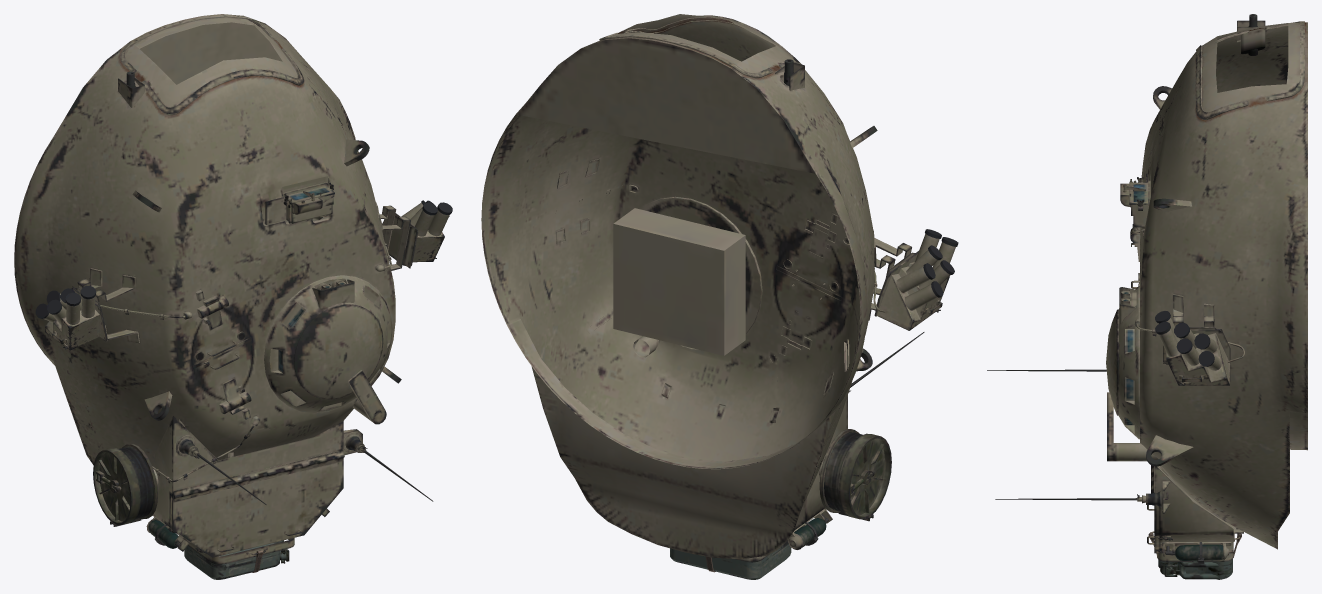
The model's file is Turret_01.glb.
The picture shows the model from 3 angles, left to right: view 1: azimuth 30°, elevation 25°; view 2: azimuth 150°, elevation 25°; view 3: azimuth 270°, elevation 25°; orthographic projection. The views are drawn at different scales.
Visible parts, largest first — view 1: set_0_group_0; view 2: set_0_group_0; view 3: set_0_group_0.
Boxes of the visible parts, x1=… form: set_0_group_0: x1=14, y1=14, x2=452, y2=579; set_0_group_0: x1=481, y1=14, x2=958, y2=579; set_0_group_0: x1=987, y1=14, x2=1307, y2=579.
Size of the model in its own units: 2.35 by 2.85 by 1.58.
Materials: 1 (1 with a texture image).
